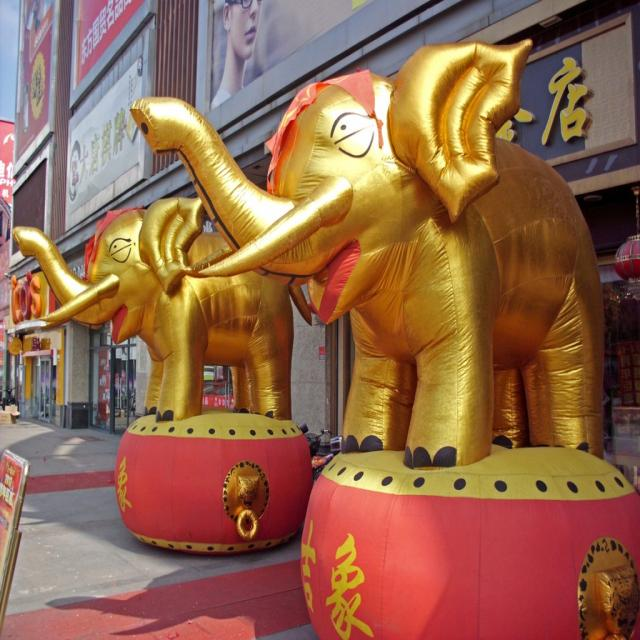elephant: (124, 54, 602, 483), (8, 205, 288, 427)
